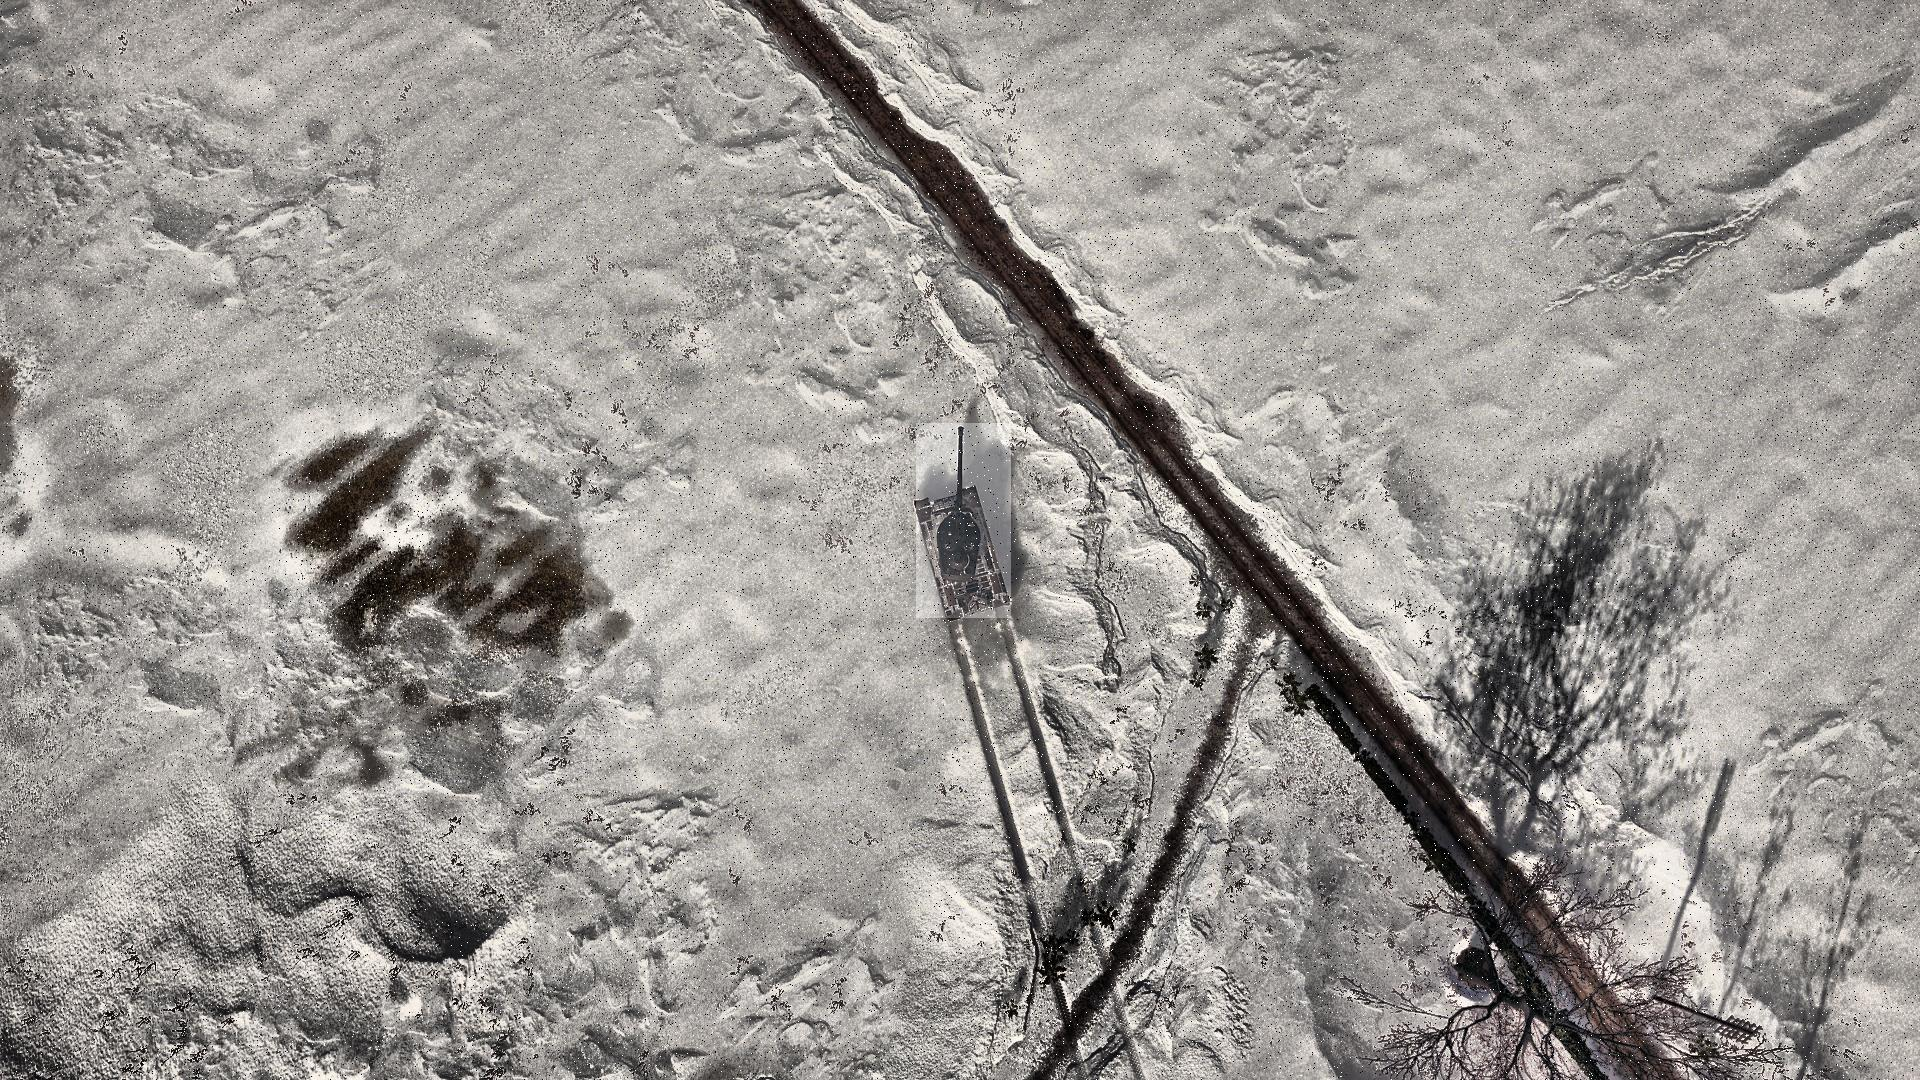military-vehicle: (916, 423, 1011, 618)
